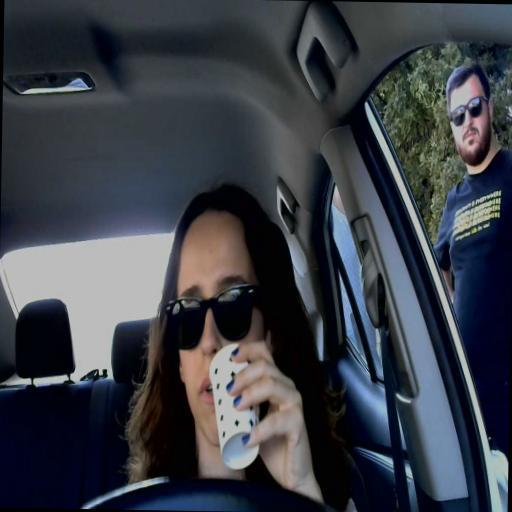Drinking: (166, 207, 307, 478)
